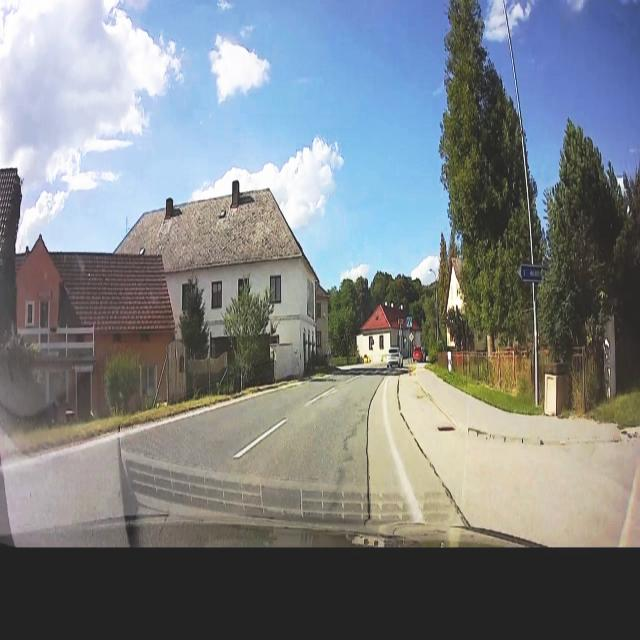Priority road: (409, 332, 415, 341)
